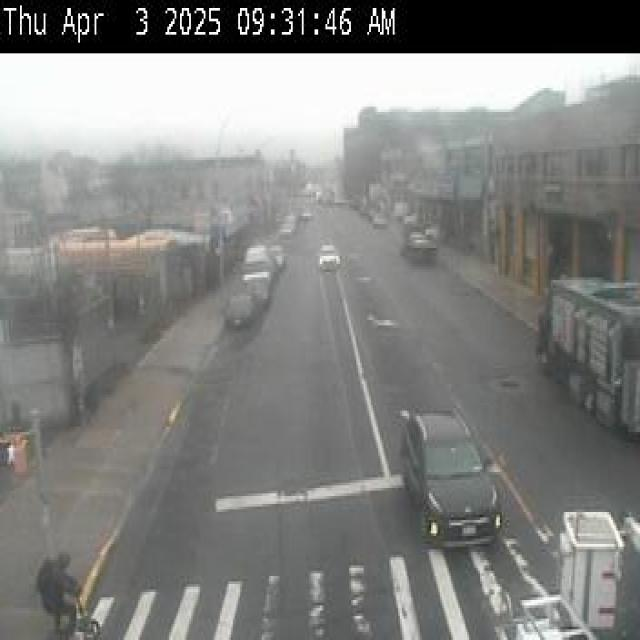open parking: (238, 215, 303, 317)
